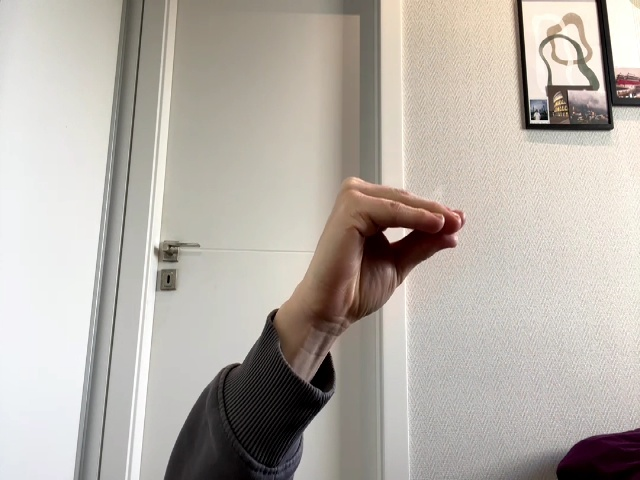E: (307, 177, 466, 338)
